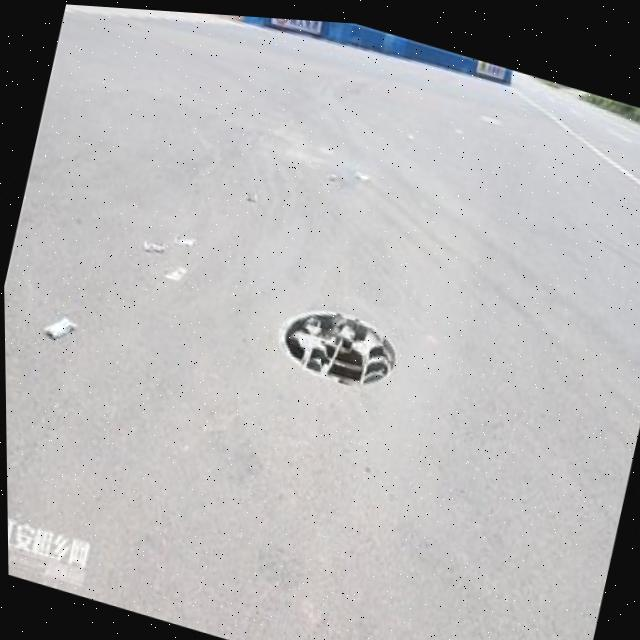manhole: (266, 283, 405, 395)
